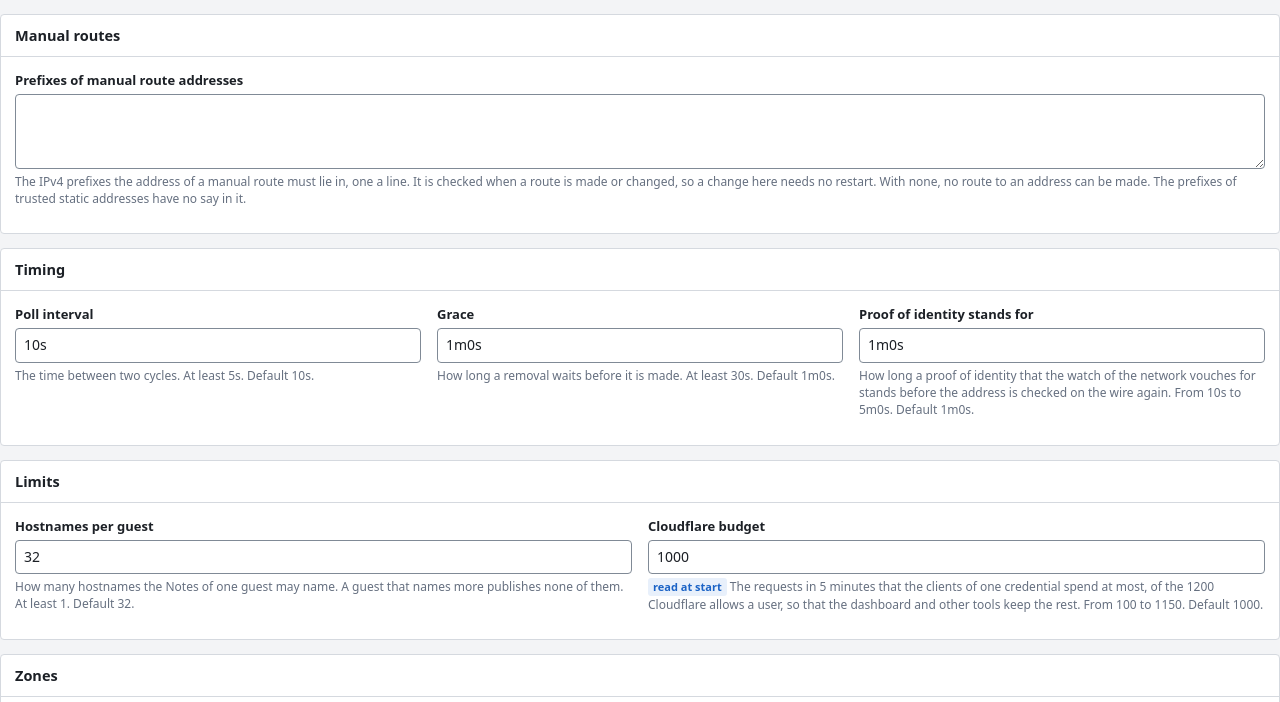
Test case: what is typed › a mistake shows as it is typed, and a save is not asked while it stands
The width and height of the screenshot is (1280, 702).
(page scrolled)
Replace the text in the field labelled "Poll interval" with "1s": (218, 345) [15,328,421,363]
(page scrolled)
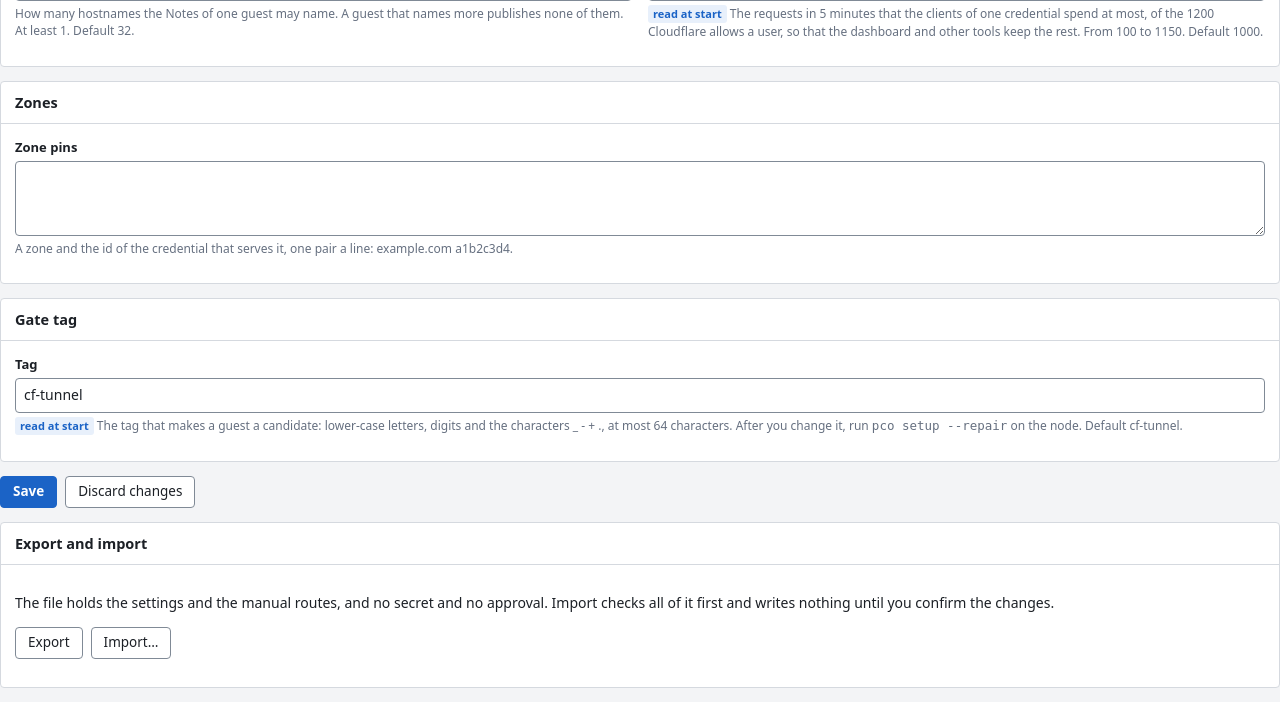
Click the button "Save": (29, 492) [0,476,57,508]
(page scrolled)
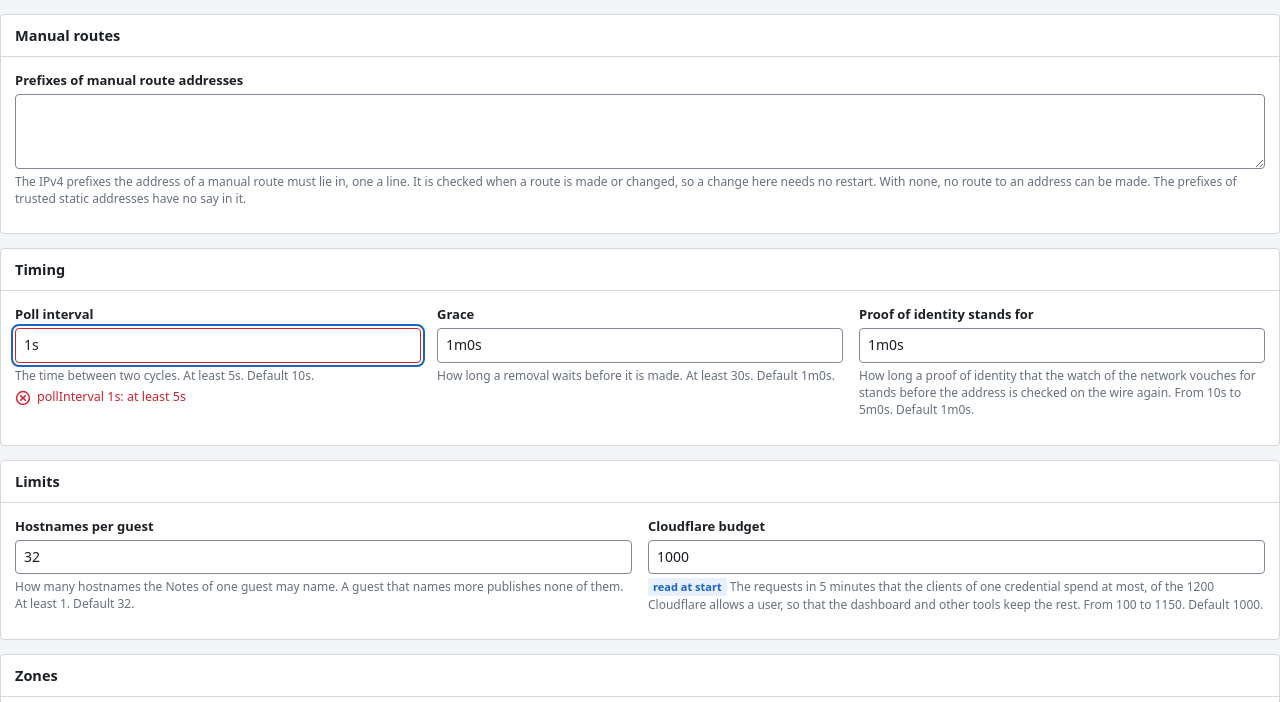
Replace the text in the field labelled "Poll interval" with "15s": (218, 345) [15,328,421,363]
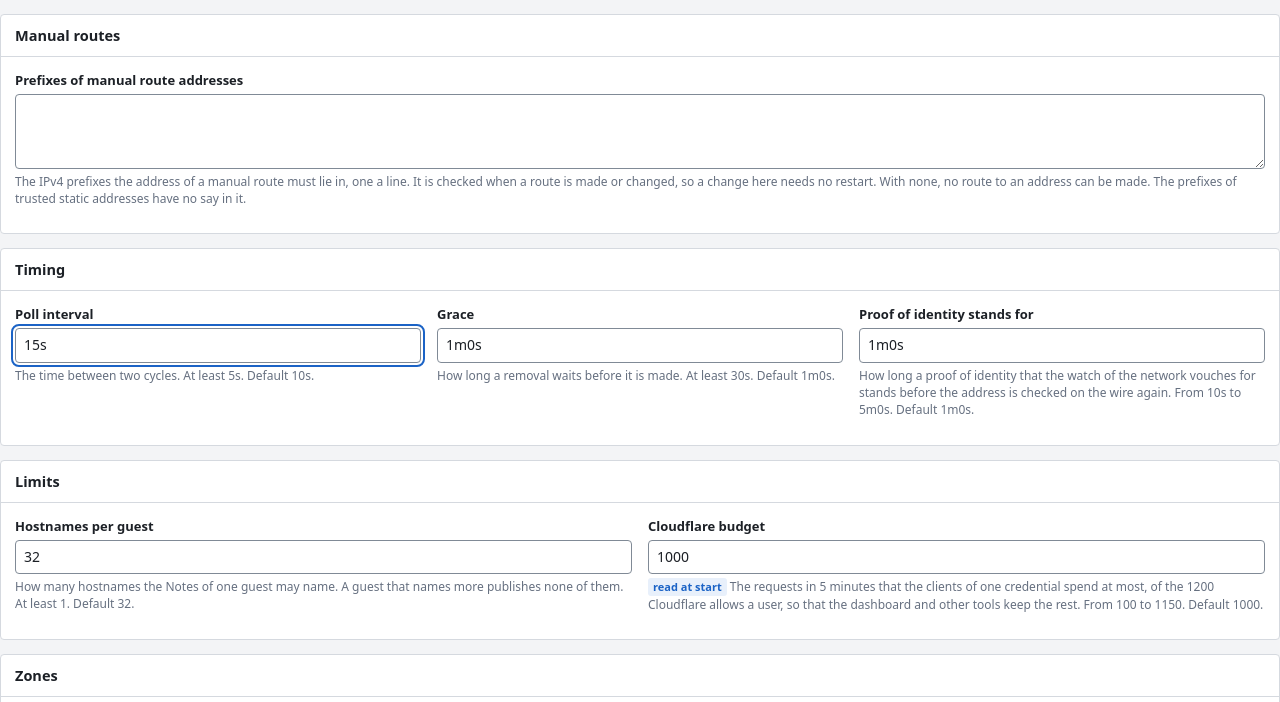
Expected: the text "pollInterval 1s: at least 5s" is gone
